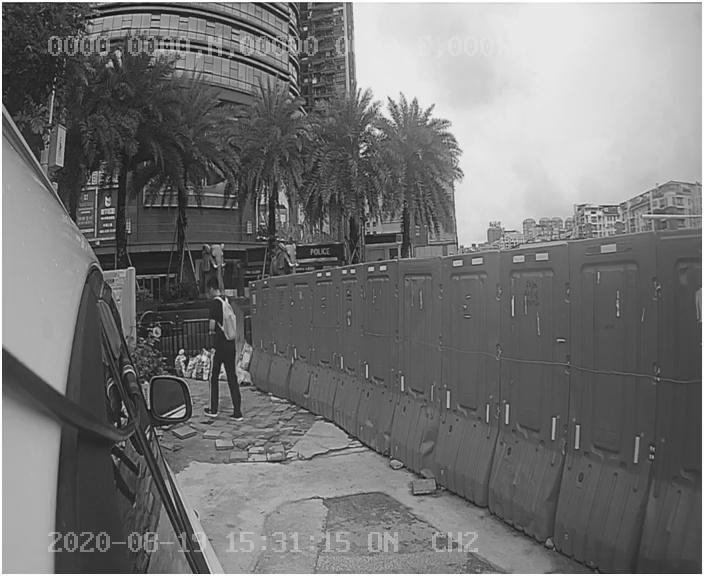person: (194, 278, 263, 422)
